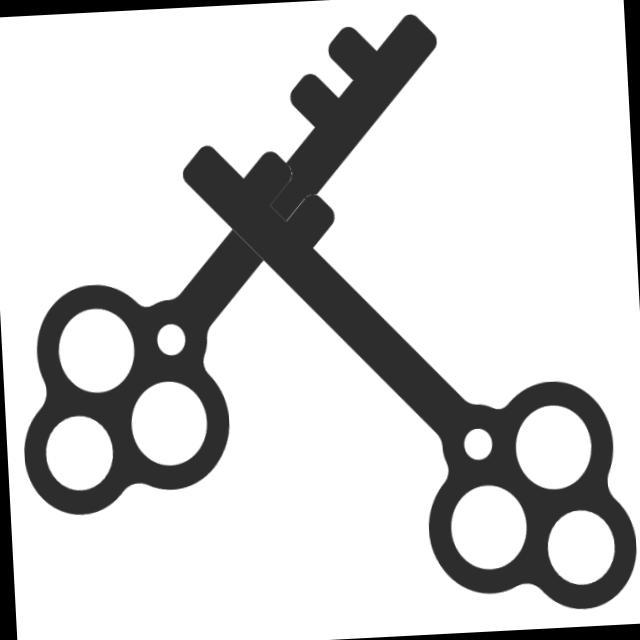key: (166, 114, 640, 640), (1, 4, 472, 527)
